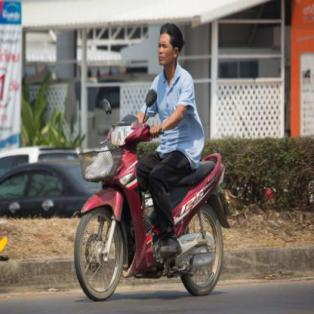Motocicleta: (76, 101, 228, 304)
